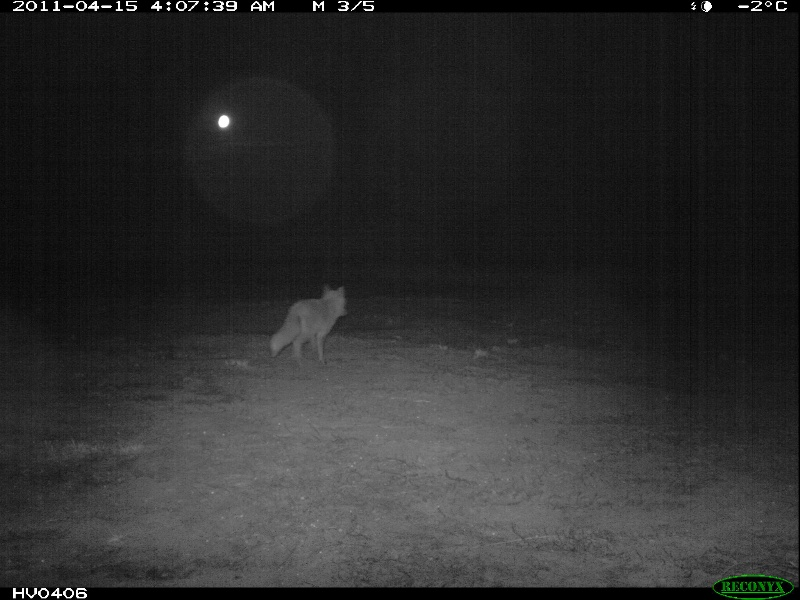fox: (267, 280, 350, 365)
